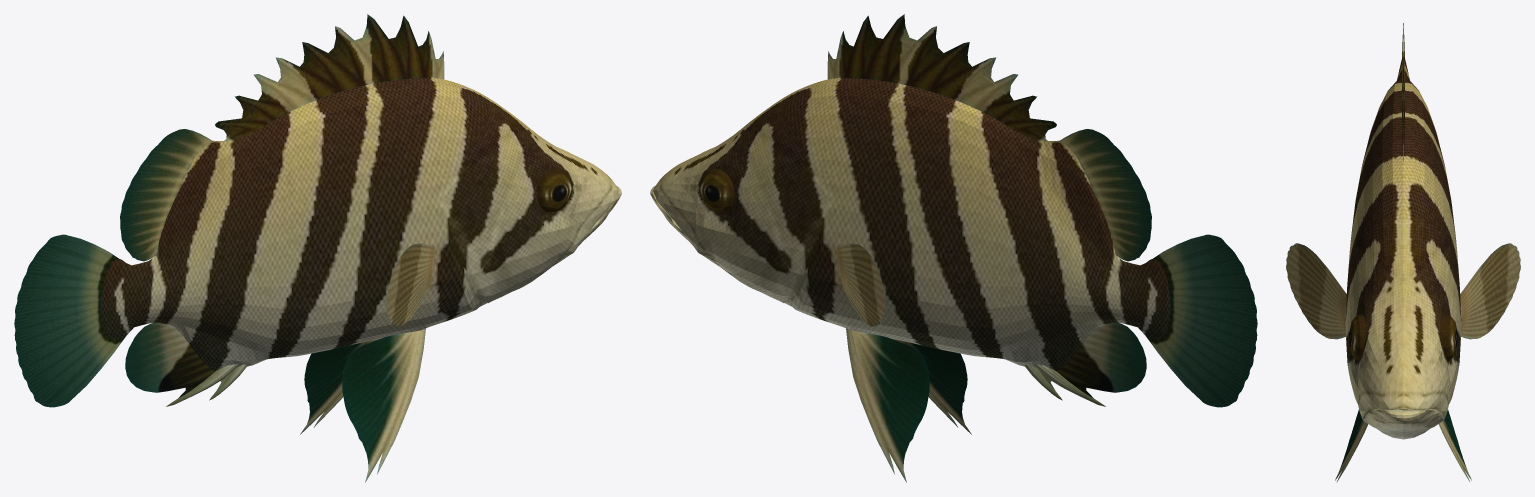
Rendered from tigerfish.glb.
3 renders of one model, left to right at view 1: azimuth 30°, elevation 25°; view 2: azimuth 150°, elevation 25°; view 3: azimuth 270°, elevation 25°, orthographic. The views are drawn at different scales.
Visible parts, largest first — view 1: tigerfish; view 2: tigerfish; view 3: tigerfish.
Boxes of the visible parts, x1=… form: tigerfish: x1=14, y1=14, x2=621, y2=482; tigerfish: x1=650, y1=14, x2=1257, y2=482; tigerfish: x1=1286, y1=23, x2=1520, y2=481.
Size of the model in its own units: 1 by 0.6895 by 0.32.
1 material, 1 textured.
